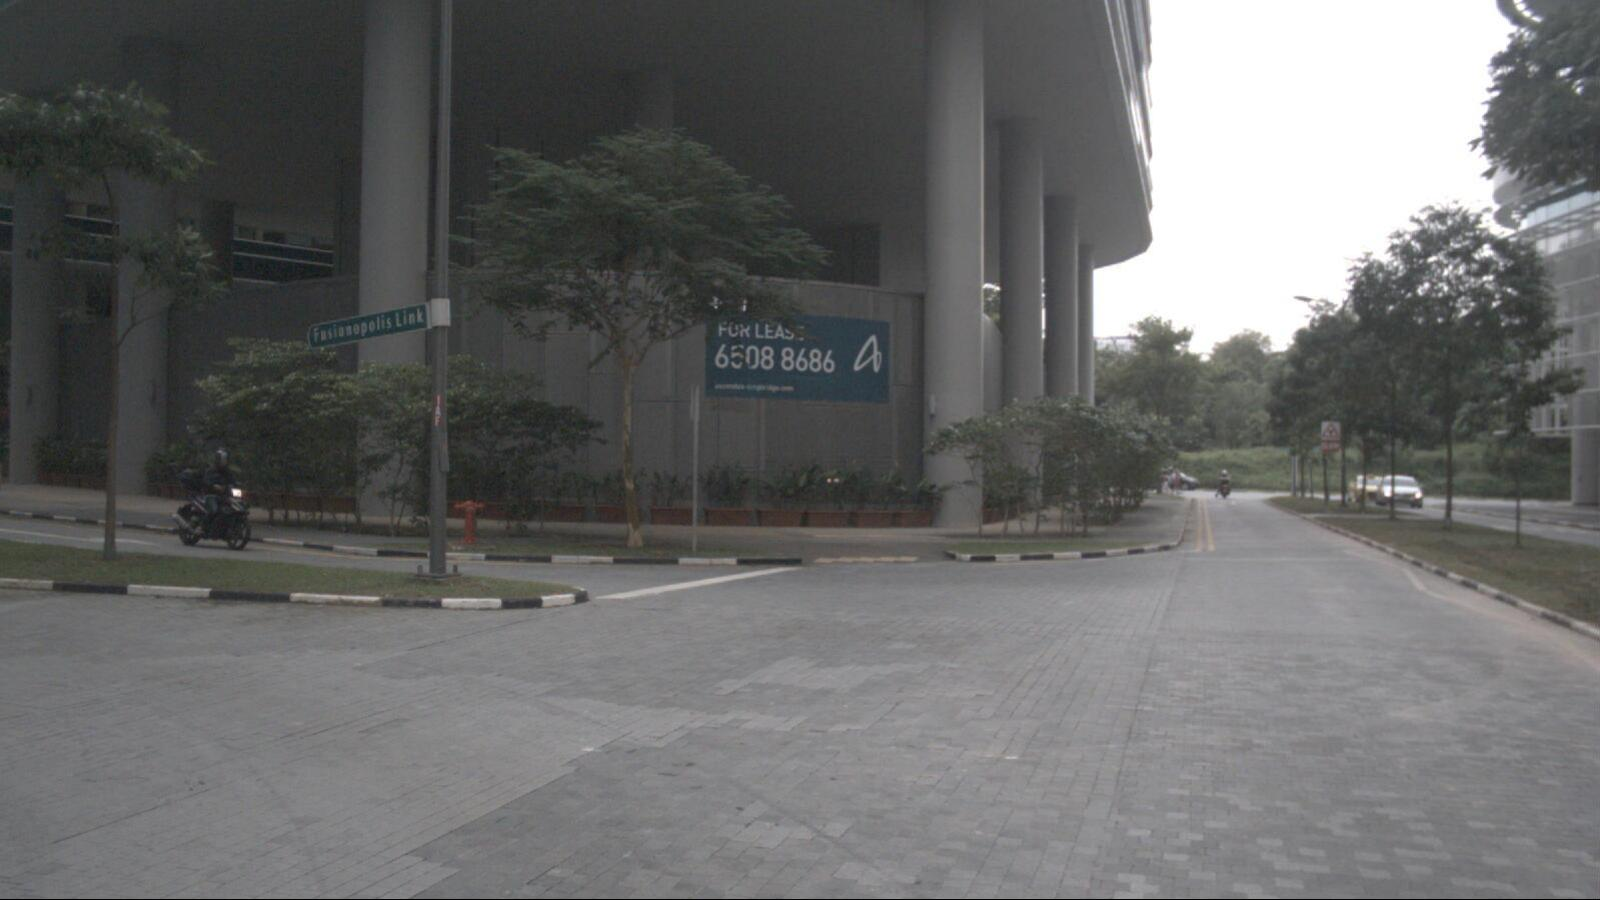human.pedestrian.adult-pedestrian.moving: (1167, 466, 1179, 496), (1159, 468, 1168, 495)
vehicle.motorcycle-cycle.with_rider: (173, 448, 251, 550), (1213, 470, 1232, 500)
